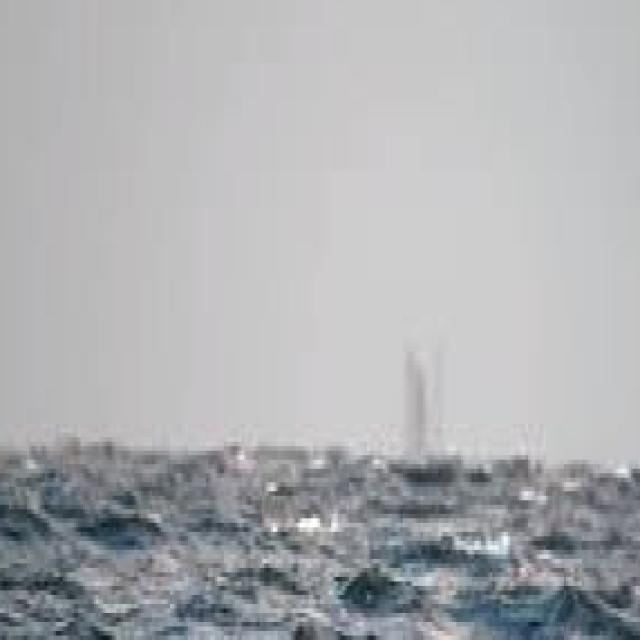fishing boat: (380, 344, 466, 492)
